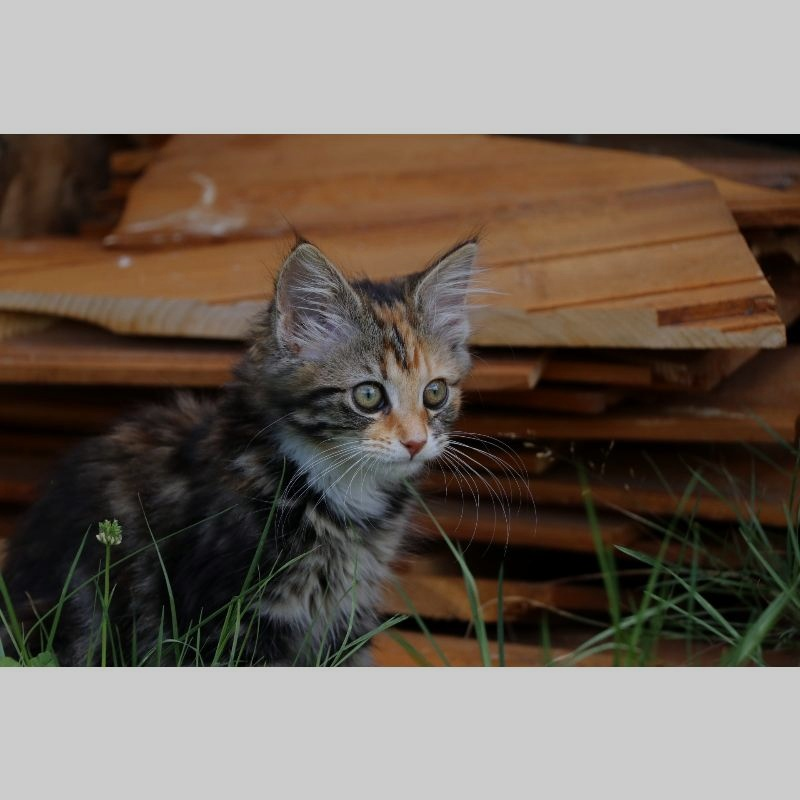red: (2, 228, 510, 666)
